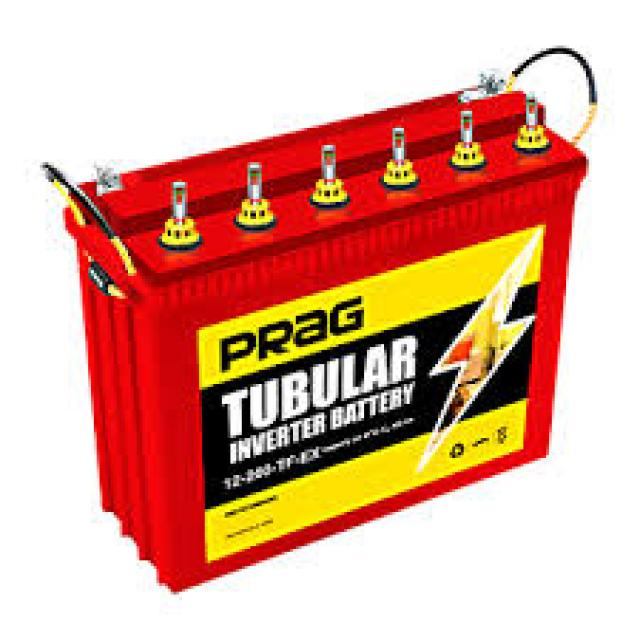Battery: (43, 85, 589, 597)
